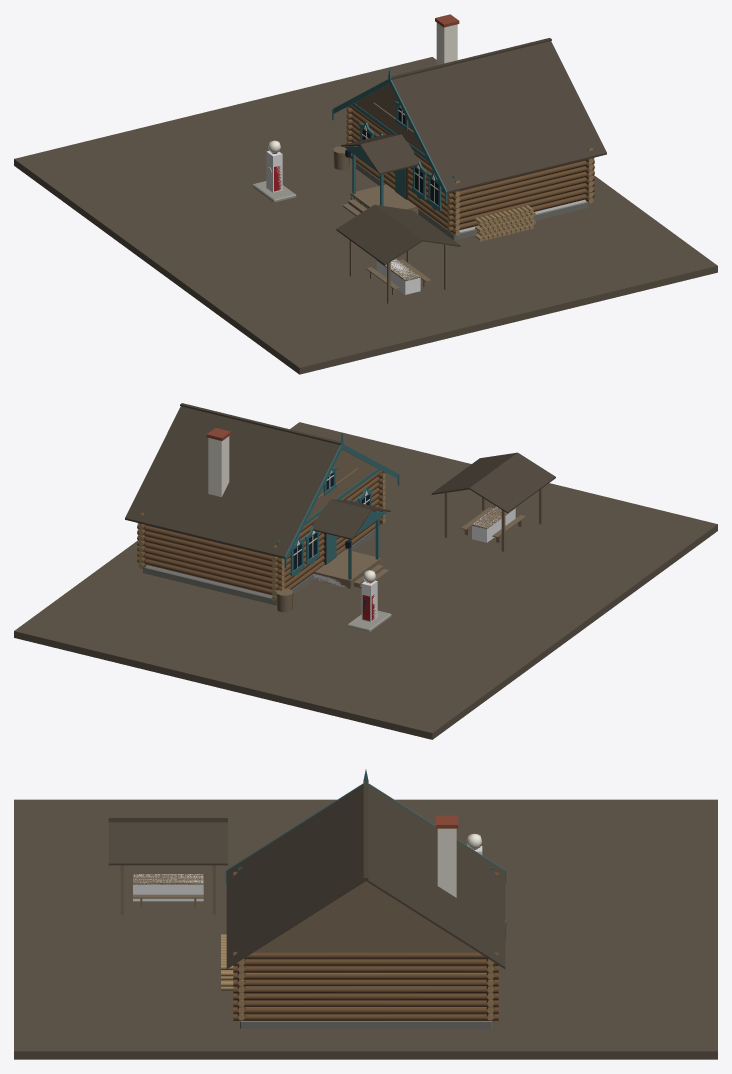
The model's file is station-tavern.glb.
3 views of the same model, one above another, from view 1: azimuth 30°, elevation 25°; view 2: azimuth 150°, elevation 25°; view 3: azimuth 270°, elevation 25° (orthographic). The views are drawn at different scales.
Visible parts, largest first — view 1: 00_#5e5448_noshadow, 06_paint2, 03_paint1, 05_#7a6a56, 07_paint0, 04_#a08660, 09_#e6e2d6, 01_#77756e, solid.001; view 2: 00_#5e5448_noshadow, 06_paint2, 03_paint1, 05_#7a6a56, 07_paint0, 09_#e6e2d6, 01_#77756e, solid.001, 04_#a08660, 08_#1c2630; view 3: 00_#5e5448_noshadow, 06_paint2, 03_paint1, 05_#7a6a56, 01_#77756e, 09_#e6e2d6, solid.001, 04_#a08660, solid.002, 07_paint0.
Boxes of the visible parts, left/top/right/bottom form: 00_#5e5448_noshadow: left=14, top=57, right=717, bottom=374; 06_paint2: left=336, top=38, right=606, bottom=265; 03_paint1: left=347, top=105, right=594, bottom=235; 05_#7a6a56: left=333, top=84, right=447, bottom=303; 07_paint0: left=332, top=68, right=454, bottom=210; 04_#a08660: left=346, top=108, right=593, bottom=241; 09_#e6e2d6: left=267, top=23, right=457, bottom=202; 01_#77756e: left=356, top=163, right=588, bottom=240; solid.001: left=376, top=259, right=420, bottom=294; 00_#5e5448_noshadow: left=14, top=422, right=717, bottom=739; 06_paint2: left=125, top=403, right=555, bottom=558; 03_paint1: left=137, top=470, right=384, bottom=600; 05_#7a6a56: left=276, top=450, right=542, bottom=612; 07_paint0: left=277, top=433, right=399, bottom=579; 09_#e6e2d6: left=208, top=436, right=376, bottom=604; 01_#77756e: left=143, top=526, right=379, bottom=605; solid.001: left=472, top=507, right=515, bottom=542; 04_#a08660: left=138, top=473, right=385, bottom=601; 08_#1c2630: left=290, top=472, right=369, bottom=569; 00_#5e5448_noshadow: left=14, top=799, right=717, bottom=1059; 06_paint2: left=108, top=781, right=505, bottom=968; 03_paint1: left=233, top=871, right=498, bottom=1020; 05_#7a6a56: left=120, top=865, right=506, bottom=952; 01_#77756e: left=240, top=1021, right=491, bottom=1028; 09_#e6e2d6: left=437, top=828, right=481, bottom=897; solid.001: left=133, top=874, right=203, bottom=901; 04_#a08660: left=221, top=934, right=494, bottom=1020; solid.002: left=245, top=973, right=486, bottom=1007; 07_paint0: left=225, top=769, right=506, bottom=884.
Size of the model in its own units: 22 by 7.52 by 26.
